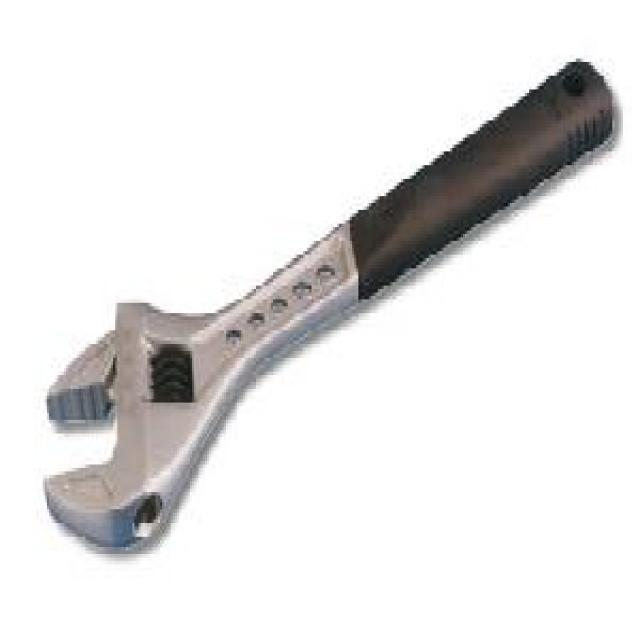wrench: (35, 51, 618, 558)
